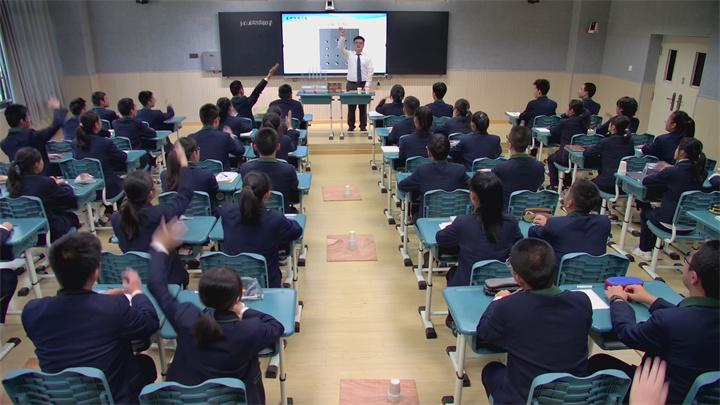hands-up: (150, 216, 285, 384), (108, 140, 199, 219), (2, 89, 63, 153), (230, 62, 280, 121), (266, 106, 297, 145)
listen: (23, 237, 147, 362), (481, 241, 592, 364), (616, 238, 715, 341), (221, 172, 307, 250), (446, 166, 516, 253), (521, 181, 619, 242), (650, 141, 711, 201), (7, 154, 71, 210), (415, 133, 472, 193), (240, 129, 302, 177), (185, 95, 237, 147), (80, 116, 125, 176), (594, 119, 638, 166), (653, 106, 697, 149), (517, 72, 551, 123), (429, 81, 455, 115)
